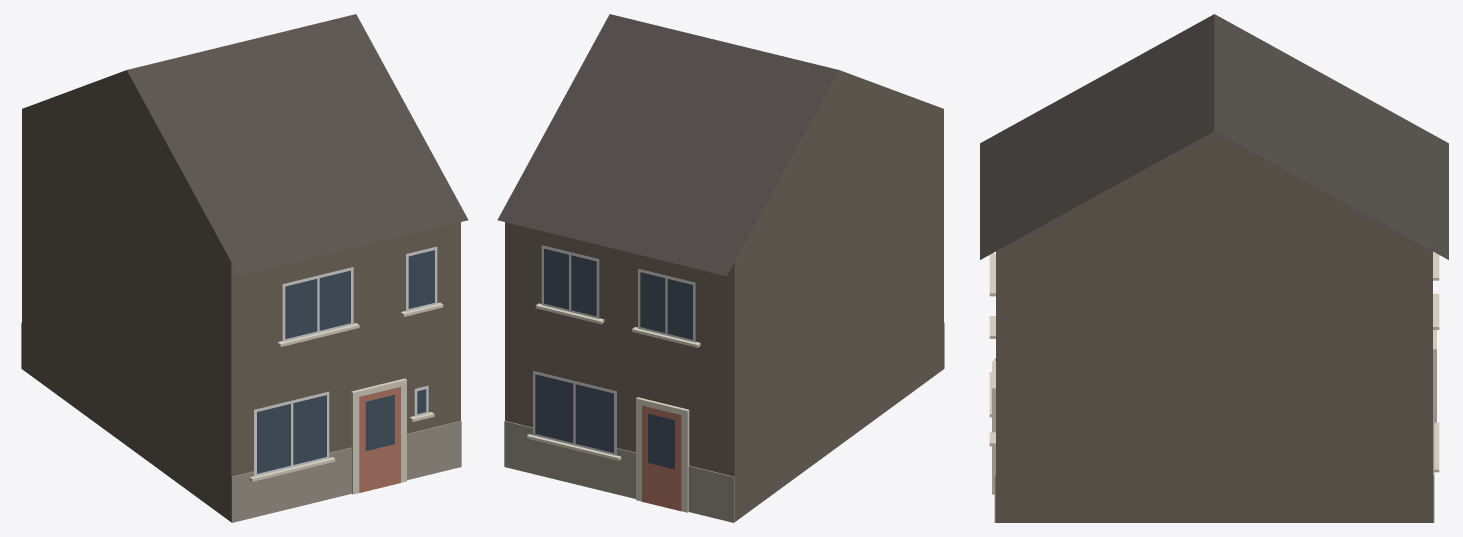
Rendered from nw-rowhouse-render-tile__greige__2__gable__long__solid.glb.
3 views of the same model, side by side, from view 1: azimuth 30°, elevation 25°; view 2: azimuth 150°, elevation 25°; view 3: azimuth 270°, elevation 25° (orthographic). The views are drawn at different scales.
Visible parts, largest first — view 1: nw-rowhouse-render-tile__greige__2__gable__long__solid; view 2: nw-rowhouse-render-tile__greige__2__gable__long__solid; view 3: nw-rowhouse-render-tile__greige__2__gable__long__solid.
Part boxes in pixels (box(x1,y1,x2,y2)): nw-rowhouse-render-tile__greige__2__gable__long__solid: box(21, 14, 468, 522); nw-rowhouse-render-tile__greige__2__gable__long__solid: box(497, 14, 944, 522); nw-rowhouse-render-tile__greige__2__gable__long__solid: box(980, 14, 1448, 522).
Bounding box in the file's own units: 5.24 × 8.2 × 8.89.
